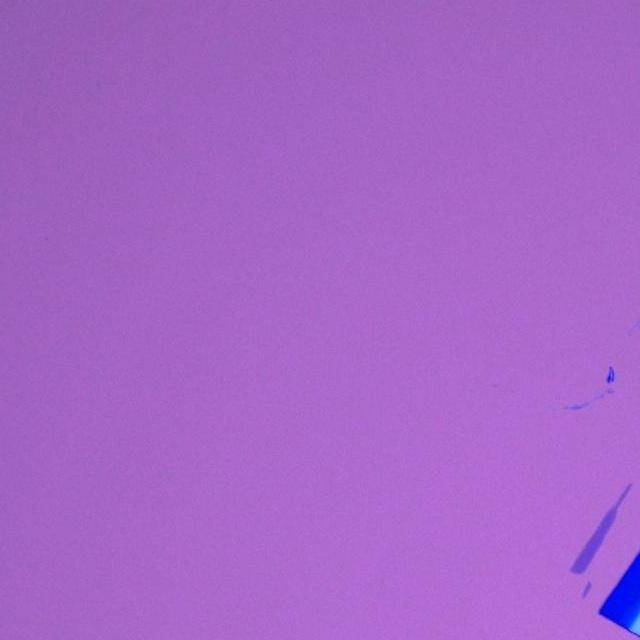monolayer-eWW4: (568, 480, 632, 578)
